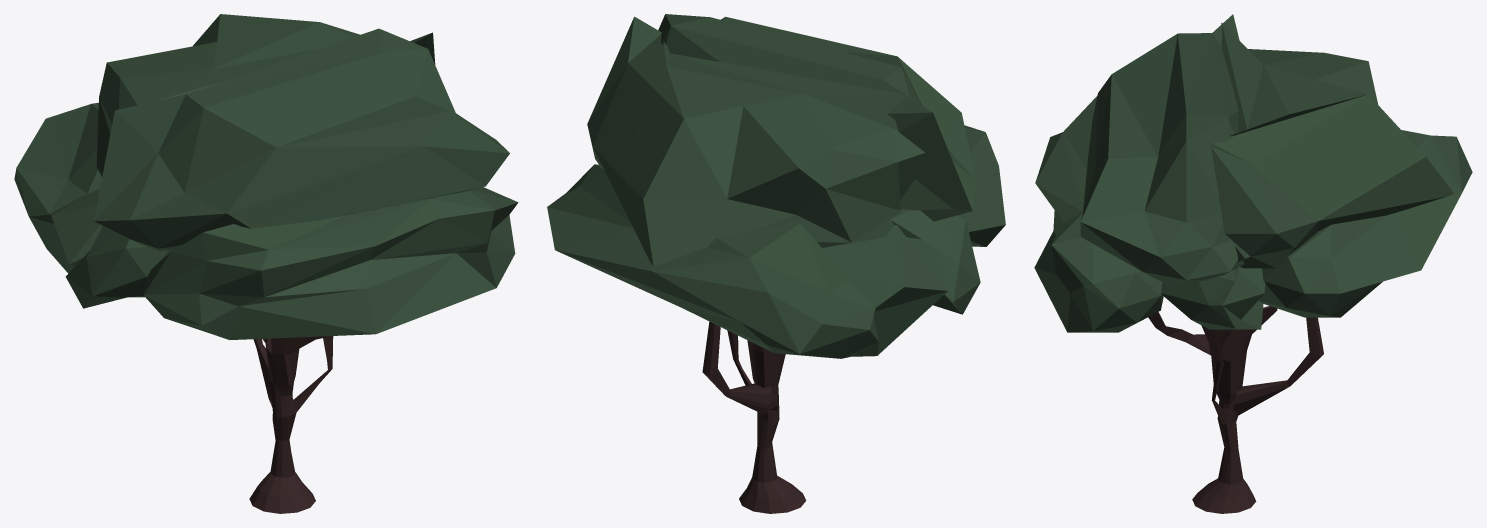
The model's file is algarrobo_01.fbx.
3 views of the same model, side by side, from view 1: azimuth 30°, elevation 25°; view 2: azimuth 150°, elevation 25°; view 3: azimuth 270°, elevation 25° (orthographic). The views are drawn at different scales.
Visible parts, largest first — view 1: copa, tronco; view 2: copa, tronco; view 3: copa, tronco.
Boxes of the visible parts, bbox=[...] form: copa: bbox=[14, 14, 518, 339]; tronco: bbox=[249, 336, 333, 513]; copa: bbox=[547, 14, 1005, 358]; tronco: bbox=[702, 321, 806, 513]; copa: bbox=[1034, 14, 1472, 332]; tronco: bbox=[1148, 306, 1323, 513].
Size of the model in its own units: 3136 by 3532 by 3270.
